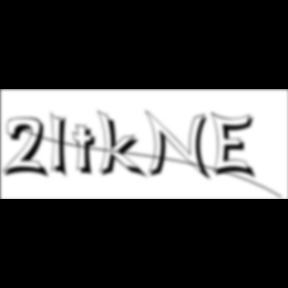2: (3, 117, 53, 181)
E: (210, 110, 260, 182)
I: (51, 110, 75, 182)
N: (145, 109, 215, 183)
k: (98, 108, 150, 181)
t: (73, 124, 104, 179)
